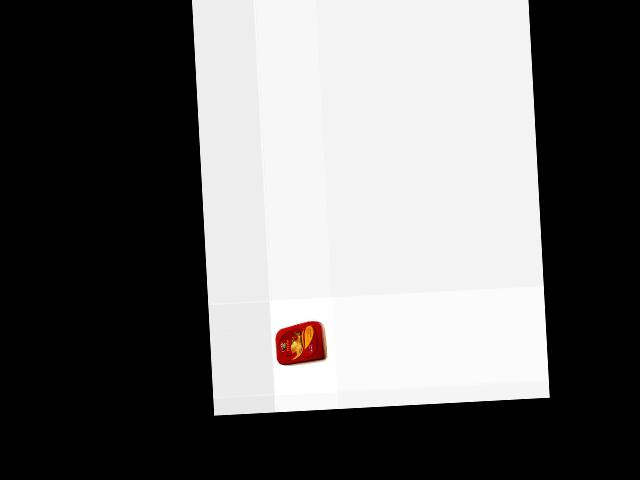cheese: (272, 320, 327, 367)
